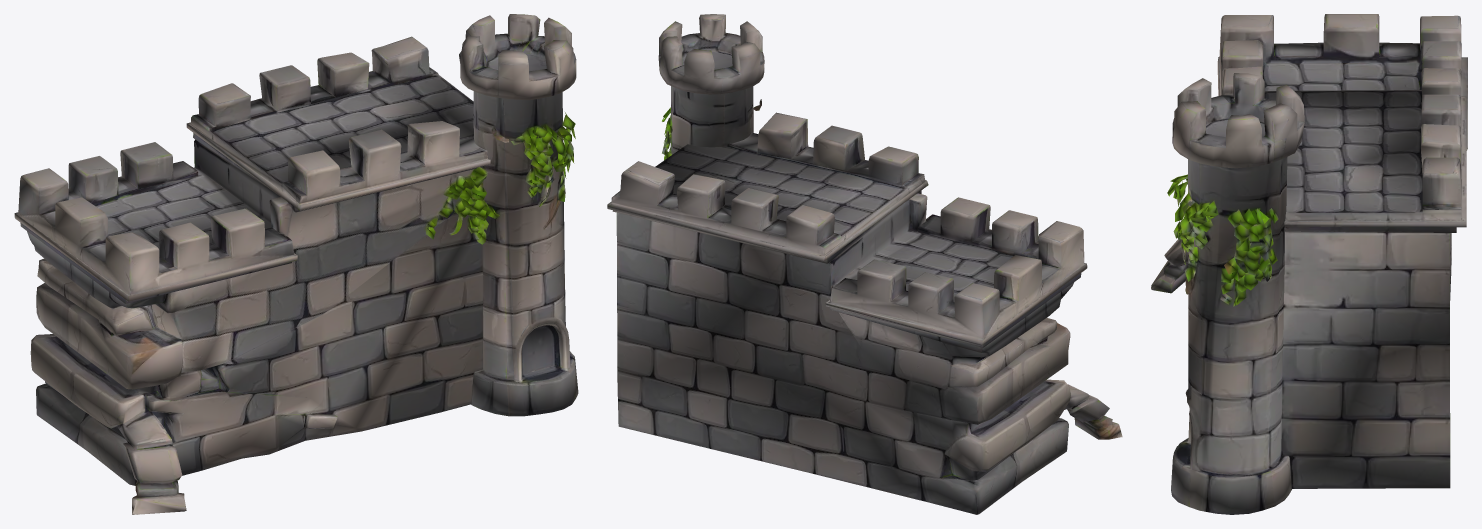
Rendered from wall.glb.
3 renders of one model, left to right at view 1: azimuth 30°, elevation 25°; view 2: azimuth 150°, elevation 25°; view 3: azimuth 270°, elevation 25°, orthographic. The views are drawn at different scales.
Size of the model in its own units: 0.9575 by 0.7012 by 0.5141.
1 material, 1 textured.
